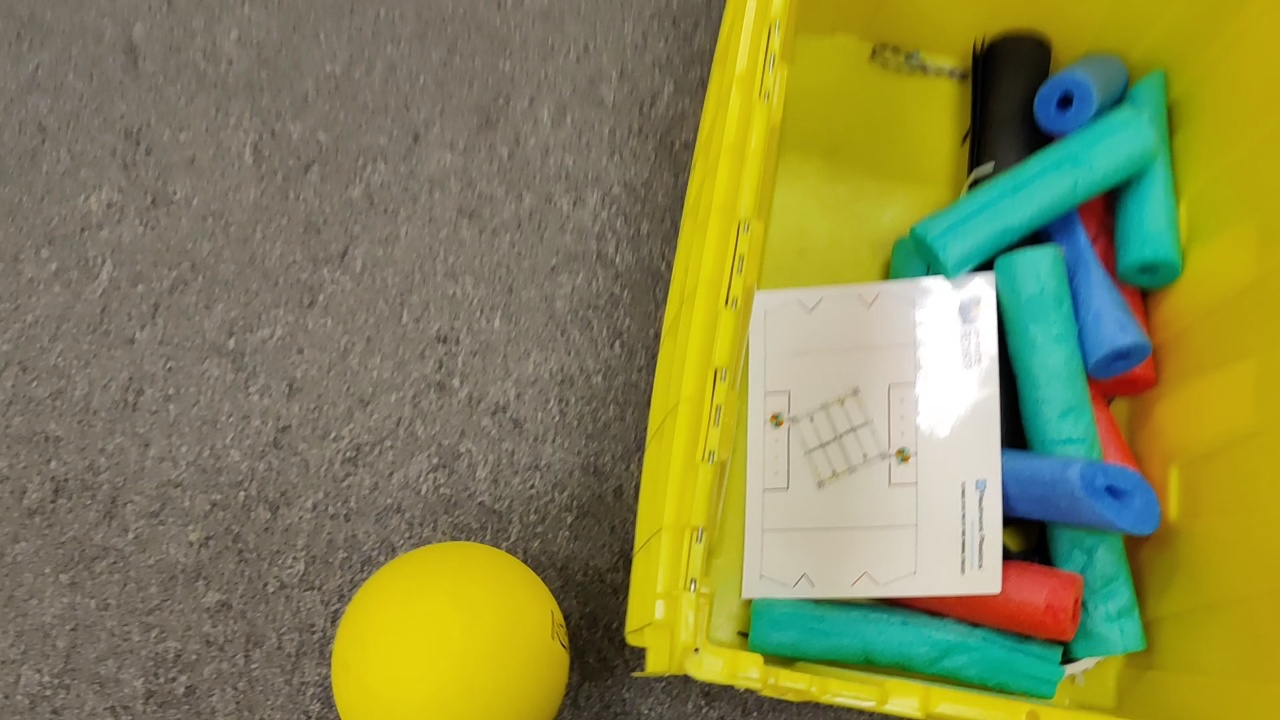Ball: (330, 542, 570, 719)
